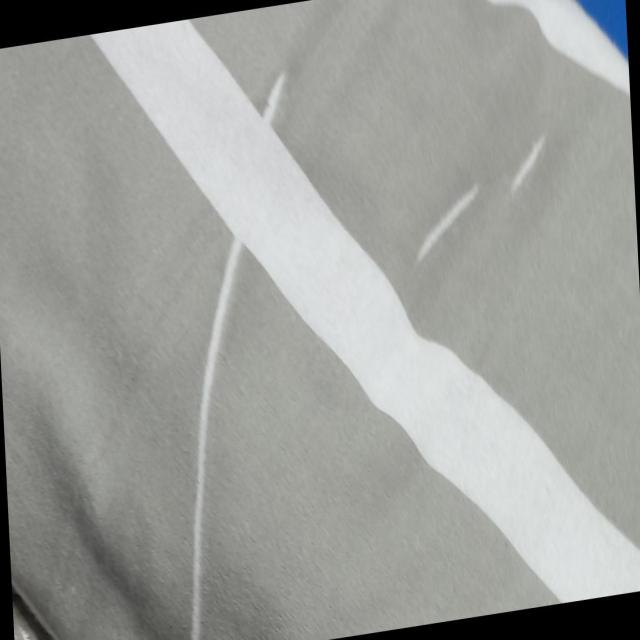selvet: (167, 227, 265, 640), (407, 176, 489, 274), (502, 121, 557, 204), (255, 59, 293, 144)
